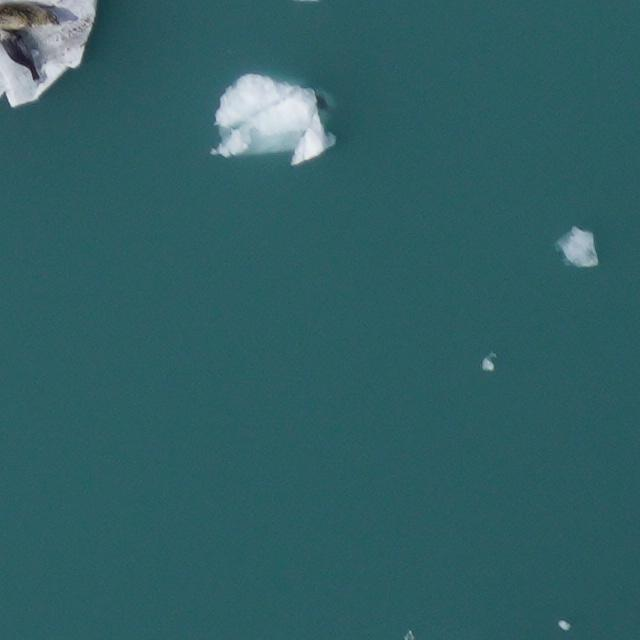seal: (0, 22, 45, 89)
